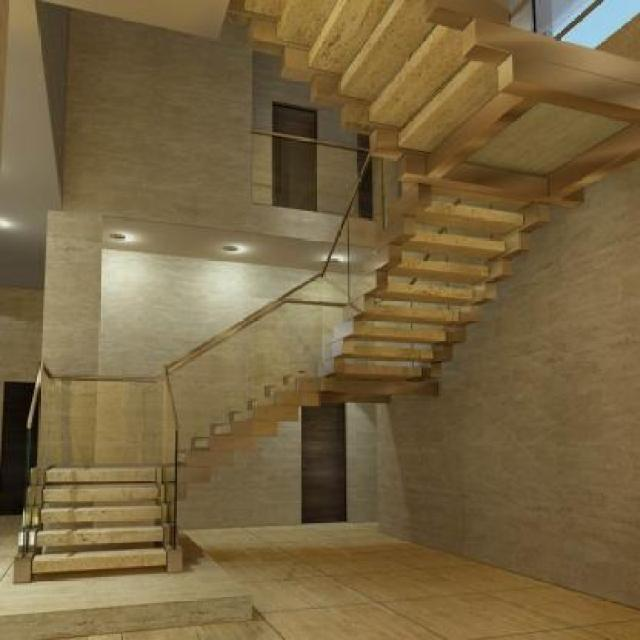stair: (5, 166, 513, 600)
